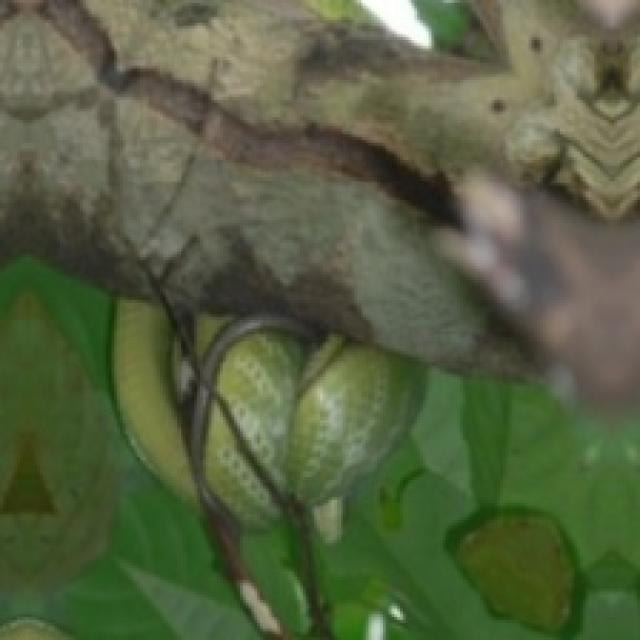red-tailed green ratsnake: (111, 297, 426, 626)
